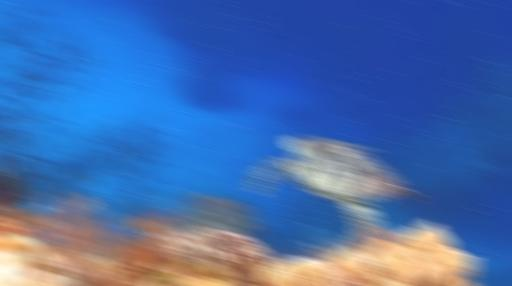Fish: (248, 136, 421, 235)
